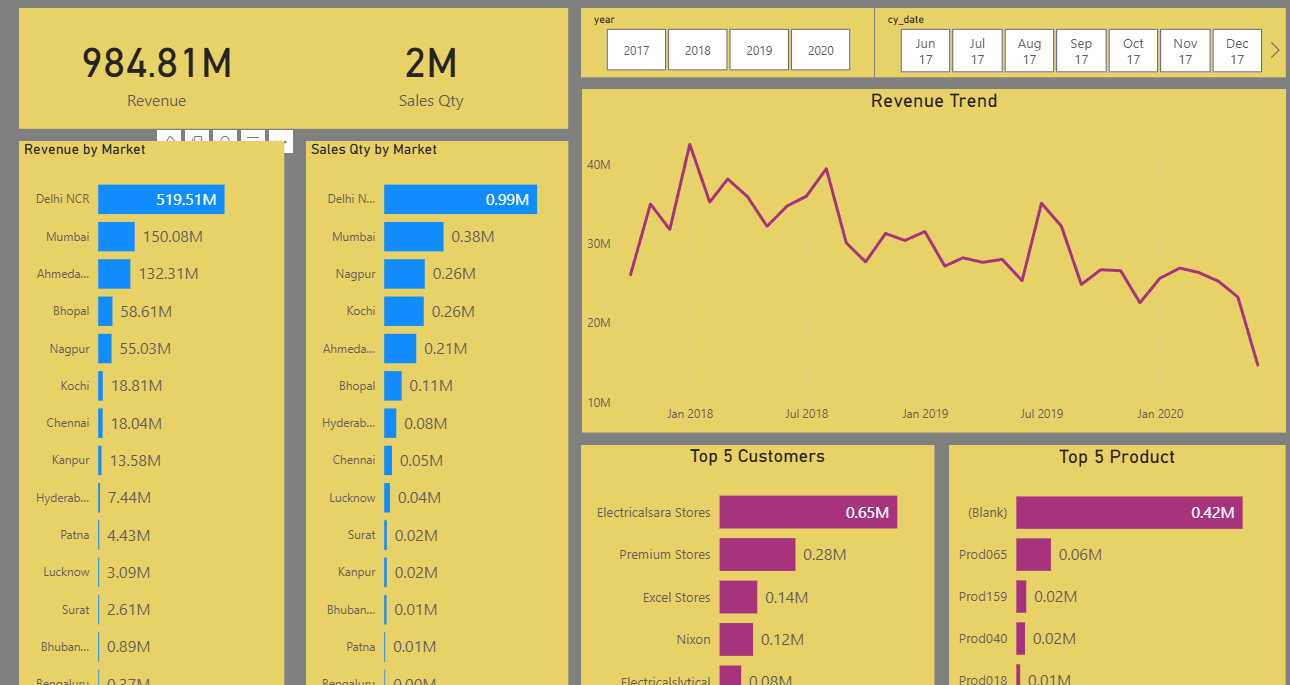

The page's visual inventory and layout, read from the dashboard file:
{"tool":"powerbi","page":{"name":"Page 1","canvas":[1280,720],"ordinal":0},"visuals":[{"type":"card","fields":{"Values":["BaseMeasures.Revenue"]},"box":[0,0,278.3,121.7],"z":0},{"type":"card","fields":{"Values":["BaseMeasures.Sales Qty"]},"box":[278.3,0,276.8,121.7],"z":1000},{"type":"barChart","title":"Revenue by Market","fields":{"Y":["BaseMeasures.Revenue"],"Category":["sales markets.markets_name"]},"box":[0,134.8,268.1,584.1],"z":2000},{"type":"barChart","title":"Sales Qty by Market","fields":{"Y":["BaseMeasures.Sales Qty"],"Category":["sales markets.markets_name"]},"box":[289.9,134.8,265.2,584.1],"z":3000},{"type":"slicer","fields":{"Values":["sales date.year"]},"box":[567.9,0,296.2,69.8],"z":4000},{"type":"slicer","fields":{"Values":["sales date.cy_date"]},"box":[864.2,0,415.1,69.8],"z":5000},{"type":"barChart","title":"Top 5 Customers","fields":{"Y":["BaseMeasures.Sales Qty"],"Category":["sales customers.custmer_name"]},"box":[567.9,441.5,356.6,279.2],"z":6000},{"type":"barChart","title":"Top 5 Product","fields":{"Y":["BaseMeasures.Sales Qty"],"Category":["sales products.product_code"]},"box":[939.6,441.5,339.6,277.4],"z":7000},{"type":"lineChart","title":"Revenue Trend","fields":{"Y":["BaseMeasures.Revenue"],"Category":["sales date.cy_date.Variation.Date Hierarchy.Year","sales date.cy_date.Variation.Date Hierarchy.Quarter","sales date.cy_date.Variation.Date Hierarchy.Month","sales date.cy_date.Variation.Date Hierarchy.Day"]},"box":[568.3,81.7,711.7,346.7],"z":8000}]}

Visuals, with their boxes in screenshot pixels (x1, y1, x2, y2):
card - BaseMeasures.Revenue: x1=24 y1=0 x2=294 y2=118
card - BaseMeasures.Sales Qty: x1=294 y1=0 x2=564 y2=118
"Revenue by Market" barChart: x1=24 y1=131 x2=284 y2=684
"Sales Qty by Market" barChart: x1=306 y1=131 x2=564 y2=684
slicer - sales date.year: x1=576 y1=0 x2=864 y2=68
slicer - sales date.cy_date: x1=865 y1=0 x2=1268 y2=68
"Top 5 Customers" barChart: x1=576 y1=430 x2=923 y2=684
"Top 5 Product" barChart: x1=938 y1=430 x2=1268 y2=684
"Revenue Trend" lineChart: x1=577 y1=80 x2=1269 y2=417
